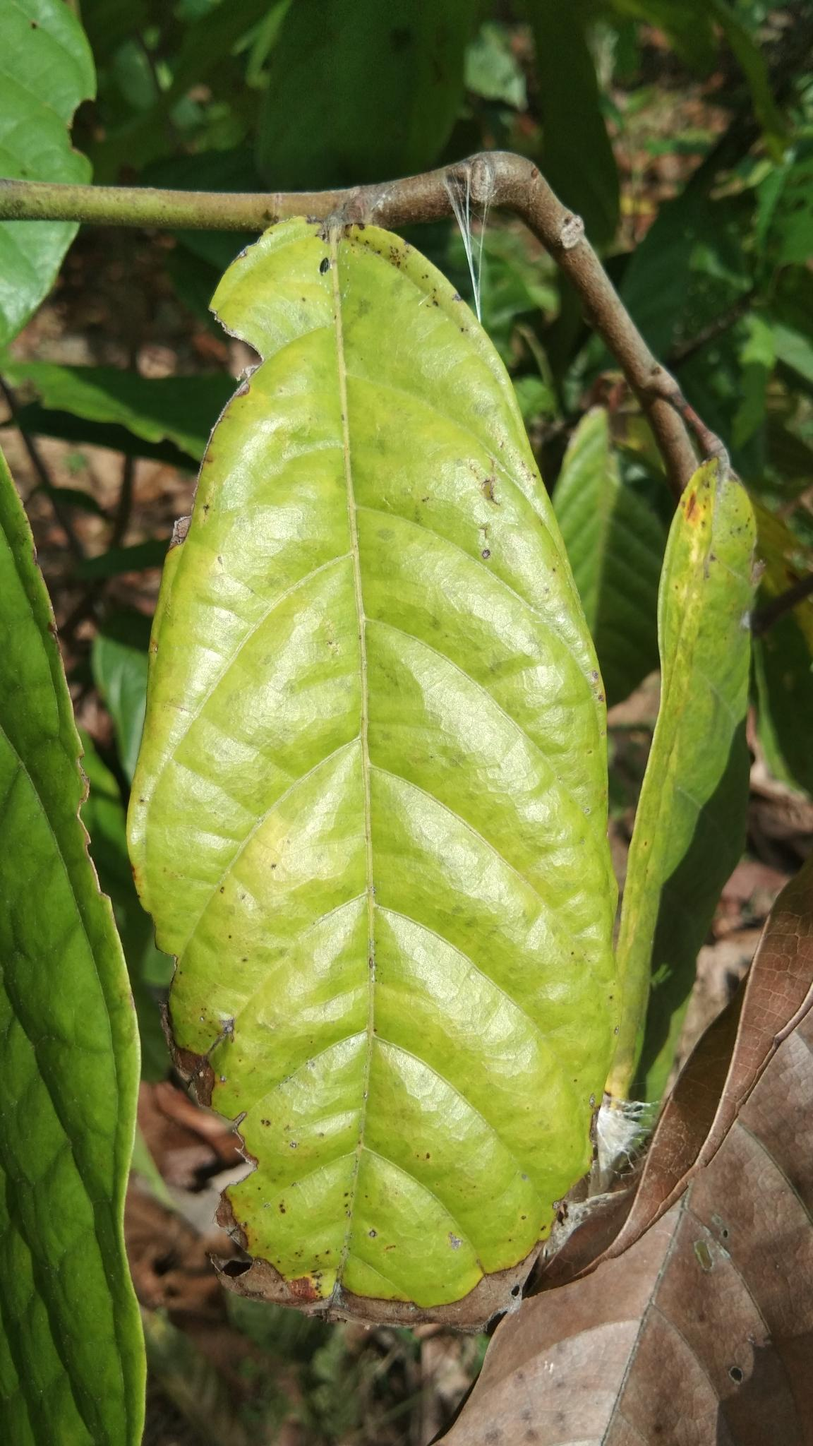Fosforo: (105, 206, 650, 1362)
